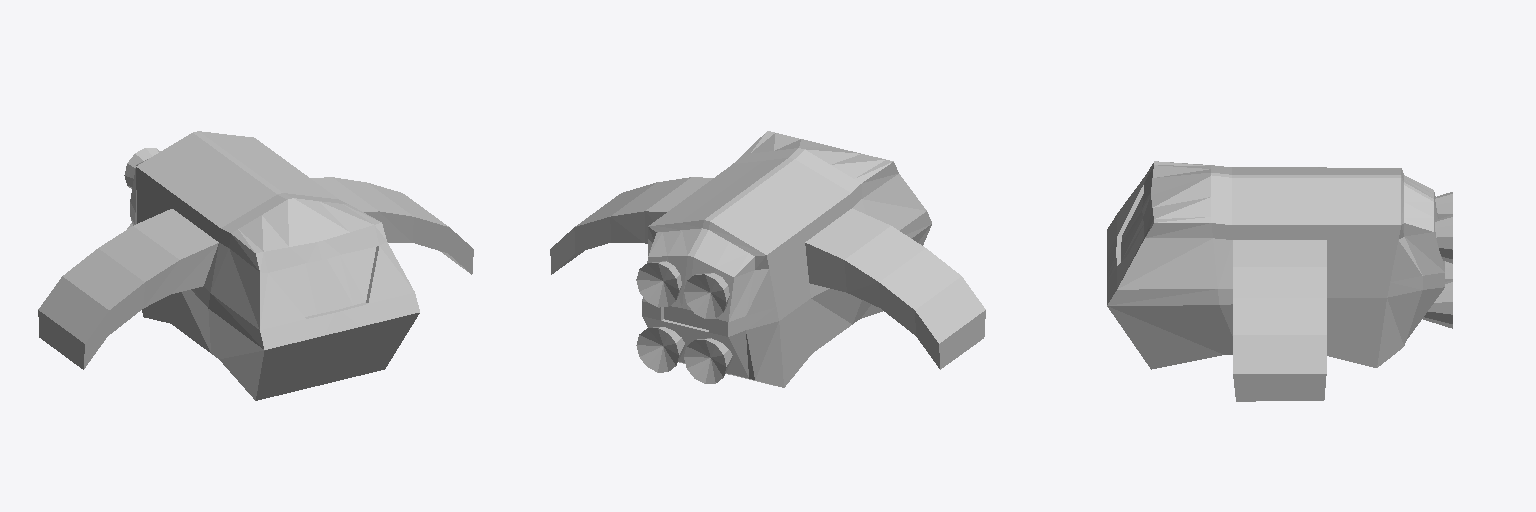
File: heavyship.obj
3 views of the same model, side by side, from view 1: azimuth 30°, elevation 25°; view 2: azimuth 150°, elevation 25°; view 3: azimuth 270°, elevation 25° (orthographic).
Parts seen in each view (by area): view 1: HeavyFighter; view 2: HeavyFighter; view 3: HeavyFighter.
Part boxes in pixels (x1,y1,x2,y2): HeavyFighter: (38, 131, 473, 400); HeavyFighter: (550, 131, 985, 387); HeavyFighter: (1107, 161, 1452, 401).
Size of the model in its own units: 6.62 by 2.67 by 5.1.